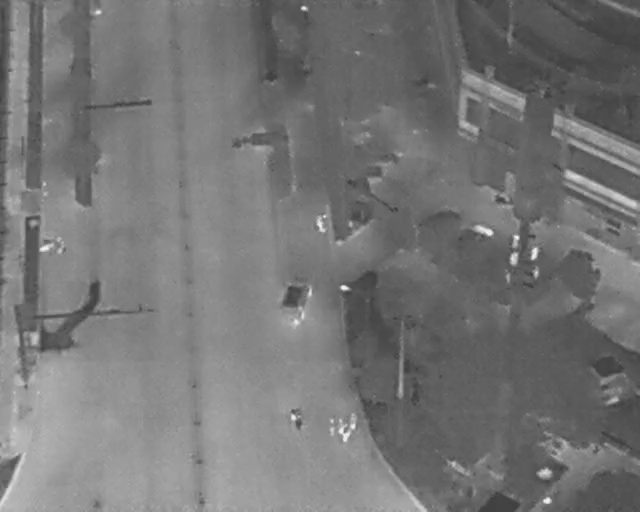Car: (275, 274, 315, 333)
Person: (313, 214, 328, 236), (37, 238, 54, 254), (327, 417, 338, 439), (54, 236, 67, 254), (348, 413, 360, 431), (335, 418, 347, 435), (295, 407, 302, 431), (343, 428, 353, 443), (289, 409, 297, 424)
